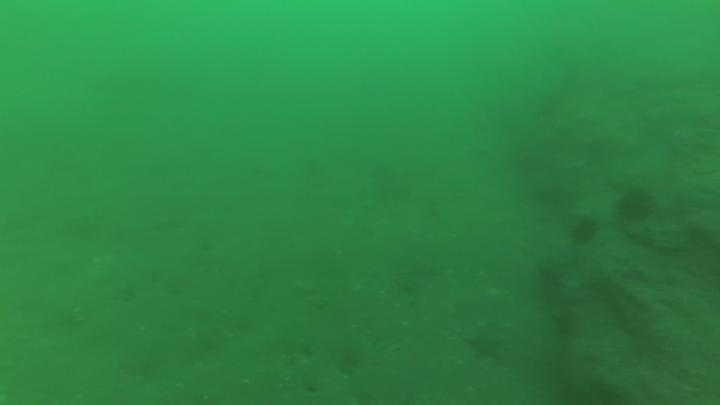echinus: (614, 185, 658, 226), (568, 214, 601, 248)
starfish: (461, 322, 511, 367)
